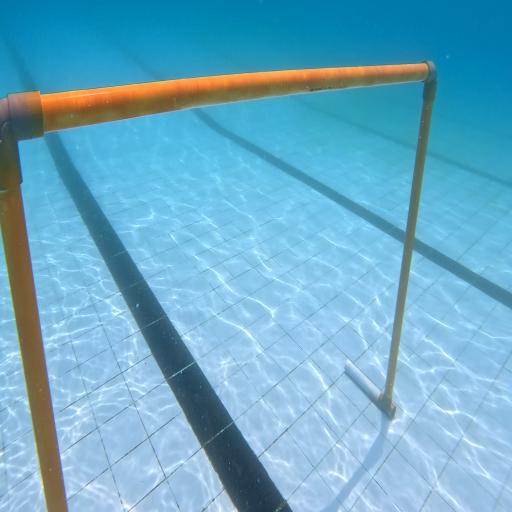gate: (0, 61, 436, 512)
